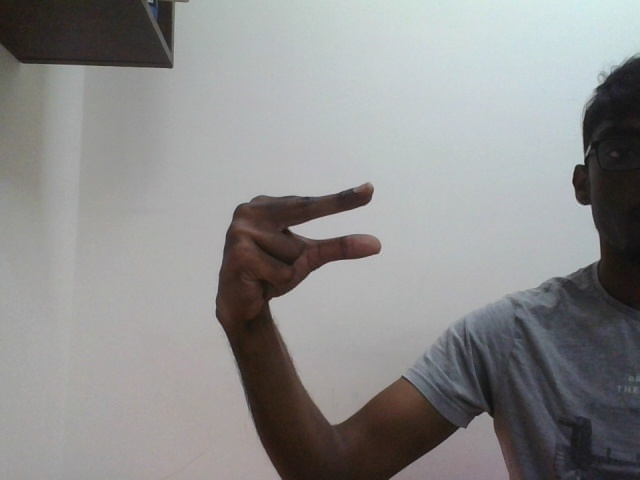No: (241, 183, 382, 268)
